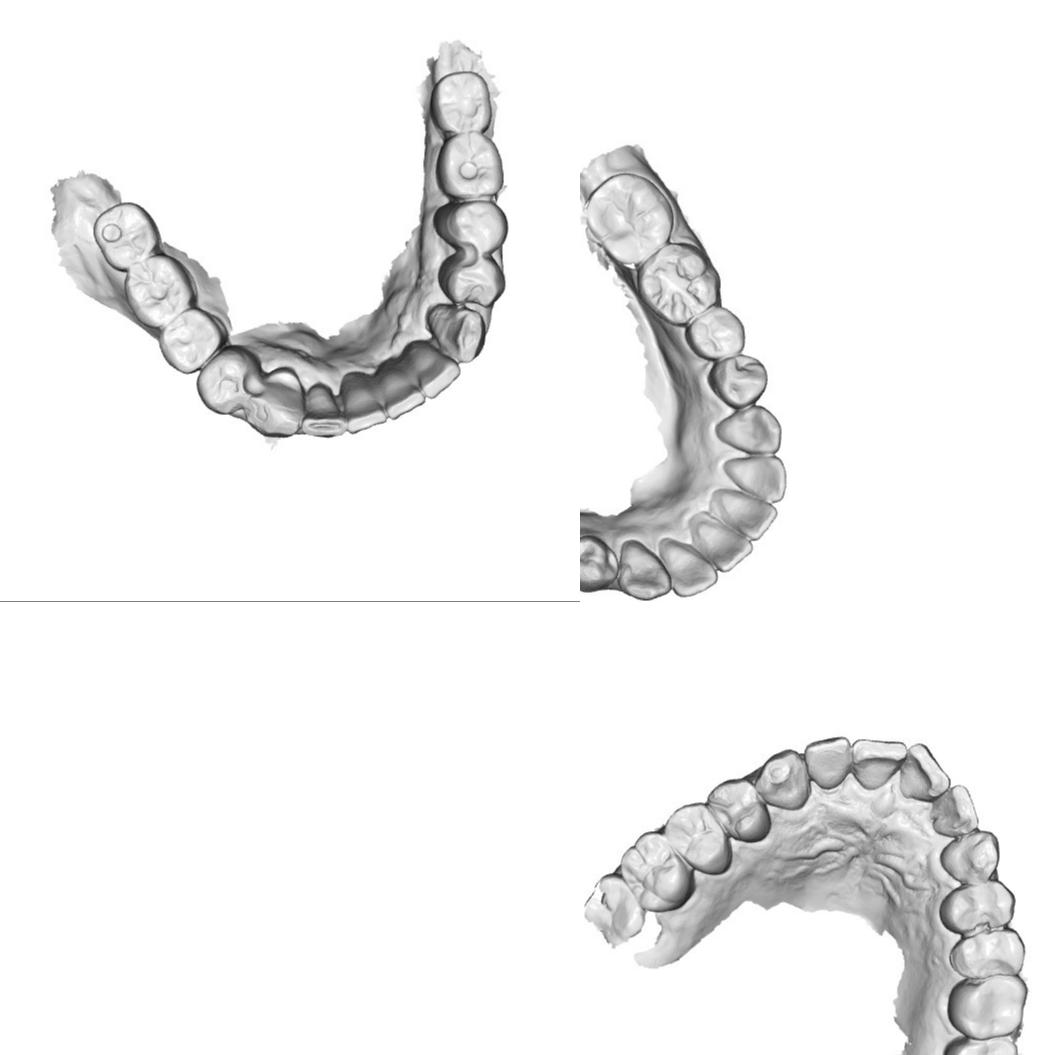canine: (710, 400, 787, 455), (247, 367, 304, 438), (616, 540, 674, 601), (431, 305, 486, 358), (758, 751, 806, 807), (942, 832, 996, 881)
incisor: (712, 487, 779, 540), (697, 511, 753, 571), (662, 540, 715, 598), (729, 454, 785, 504), (343, 372, 388, 429), (412, 344, 461, 396), (301, 381, 343, 441), (854, 738, 904, 786), (805, 738, 850, 788), (899, 744, 943, 795), (931, 789, 979, 834), (383, 363, 424, 415)
molar: (585, 177, 670, 263), (91, 200, 166, 276), (642, 243, 716, 320), (430, 132, 510, 199), (618, 834, 688, 910), (126, 255, 189, 325), (432, 70, 499, 134), (956, 979, 1027, 1037), (945, 1031, 1015, 1055)
premolar: (432, 196, 508, 255), (667, 805, 728, 877), (439, 250, 505, 311), (951, 932, 1020, 980), (709, 780, 763, 838), (716, 348, 766, 408), (950, 883, 1015, 929), (166, 311, 217, 369), (198, 356, 250, 410), (580, 530, 621, 596), (692, 307, 742, 355)
